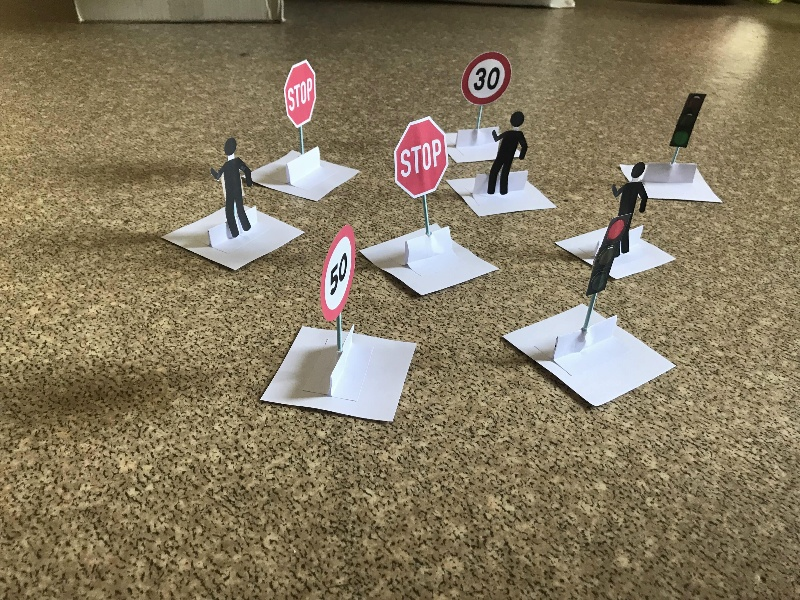green light: (668, 92, 707, 168)
person: (209, 137, 255, 239), (607, 161, 650, 255), (491, 111, 528, 196)
red light: (574, 215, 631, 341)
speed limit 30: (459, 51, 512, 150)
speed limit 50: (320, 228, 356, 360)
stop sign: (394, 118, 447, 253), (281, 60, 326, 173)
